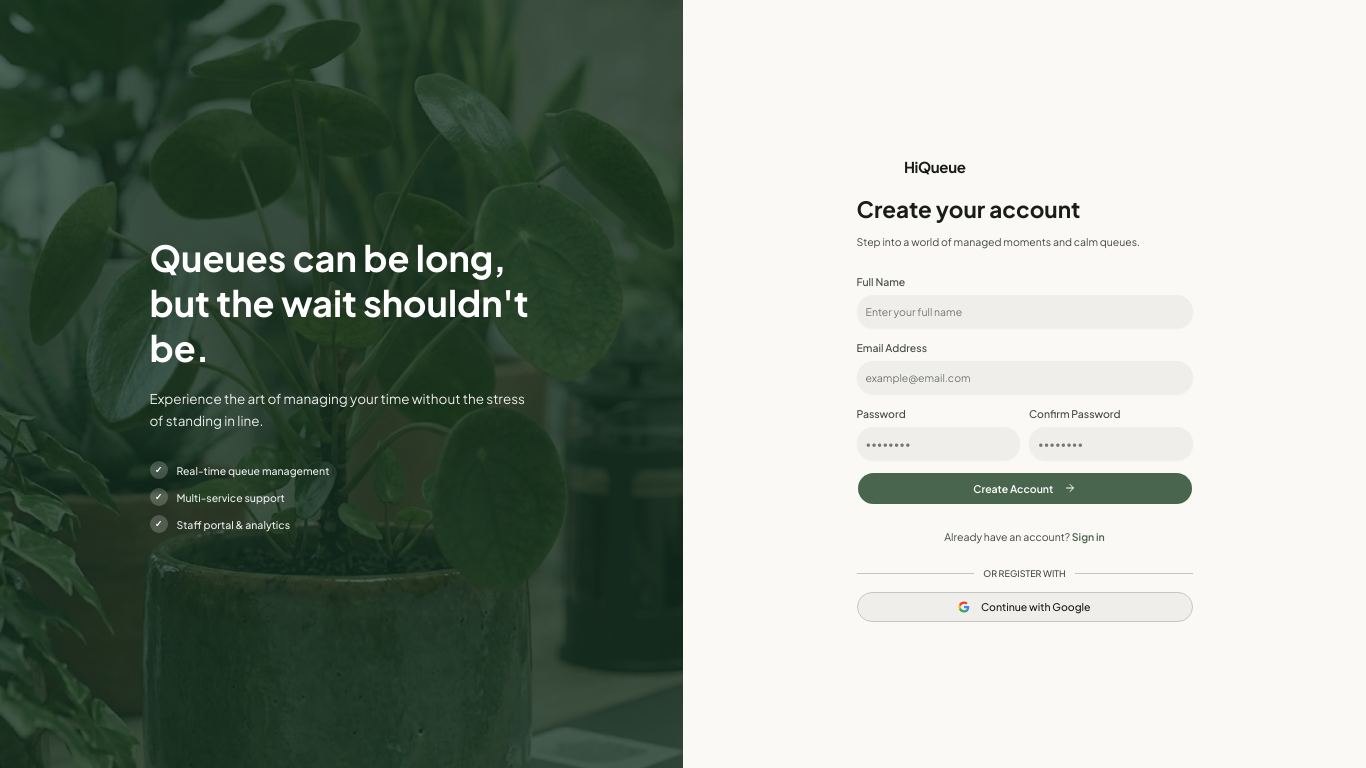
RegisterPage › should stop spinner and show error when registration fails
In the field labelled "Full Name": (1024, 311) [856, 295, 1192, 328], type "Test User"
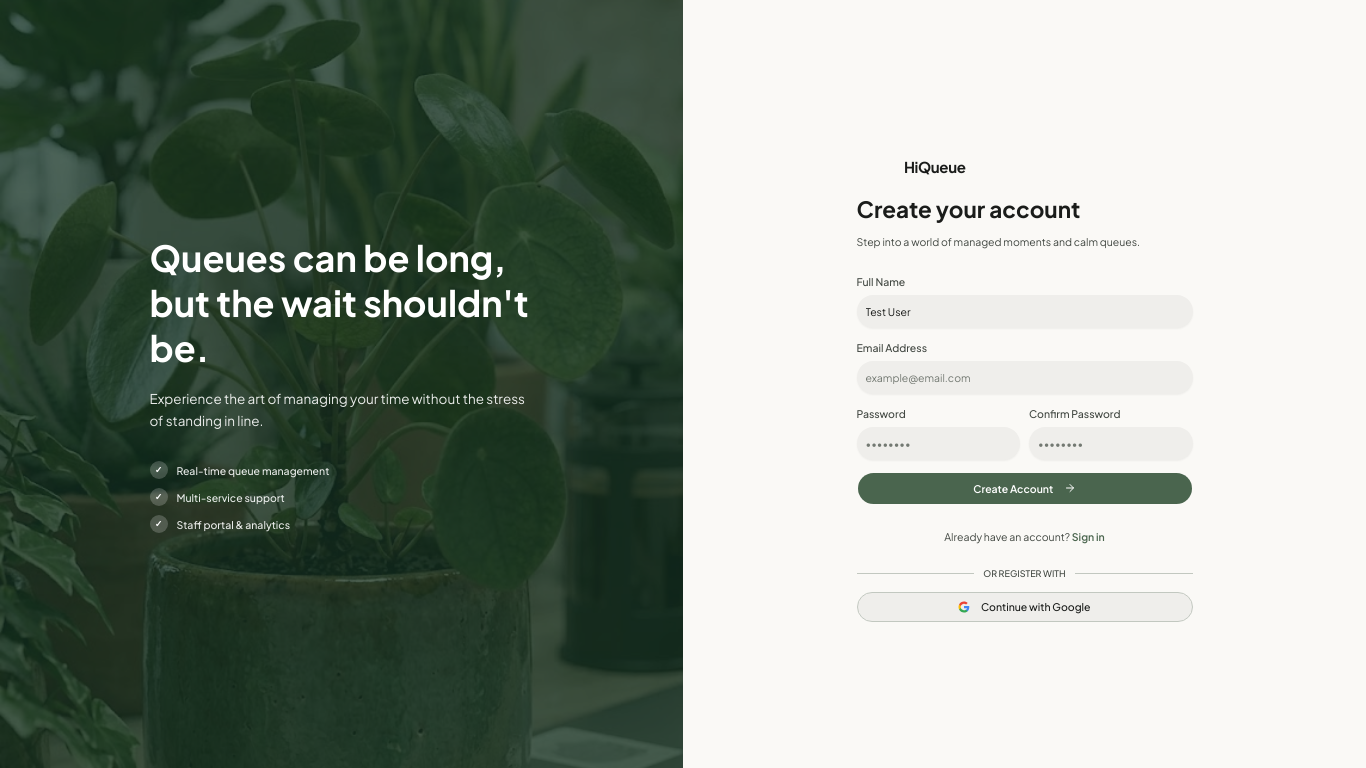
In the field labelled "Email Address": (1024, 377) [856, 361, 1192, 394], type "existing@example.com"
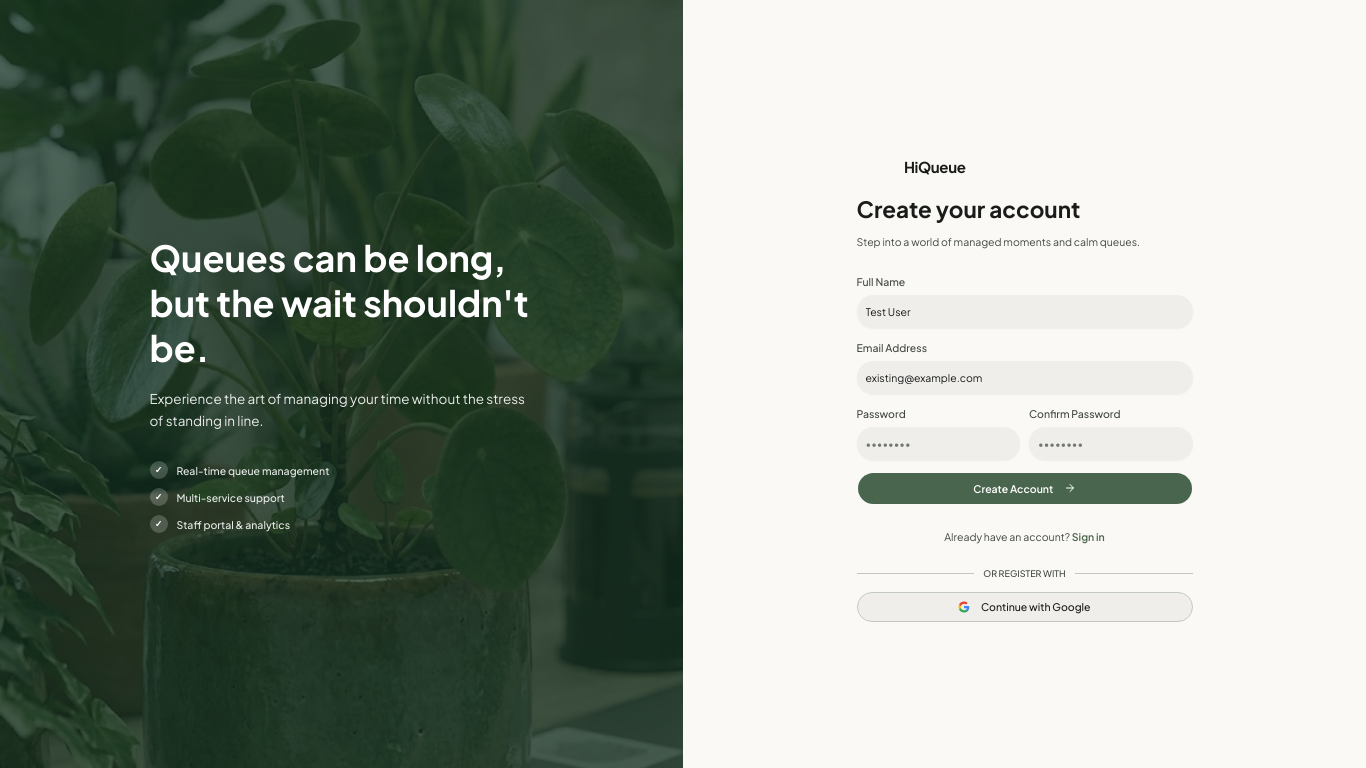
In the password field labelled "Password": (938, 443) [856, 427, 1020, 460], type "password123"
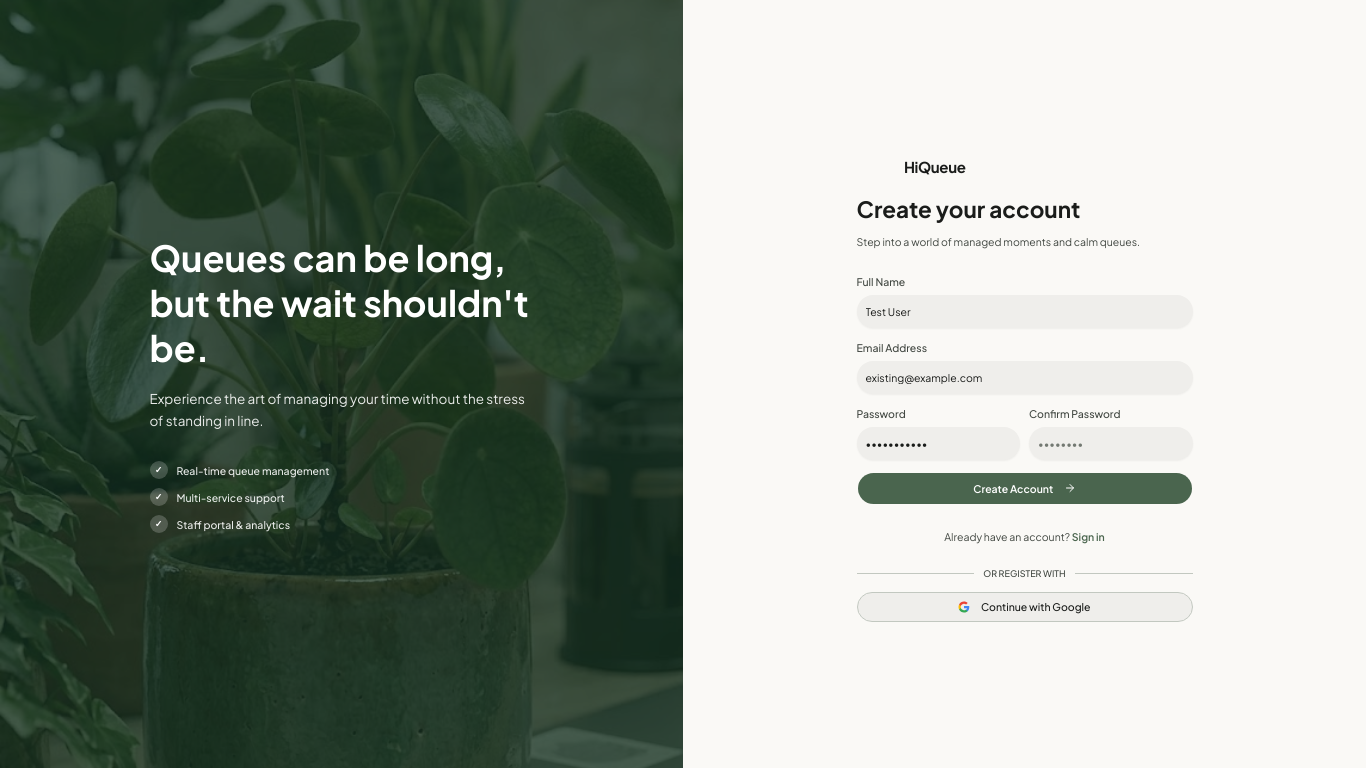
In the password field labelled "Confirm Password": (1111, 443) [1029, 427, 1192, 460], type "password123"
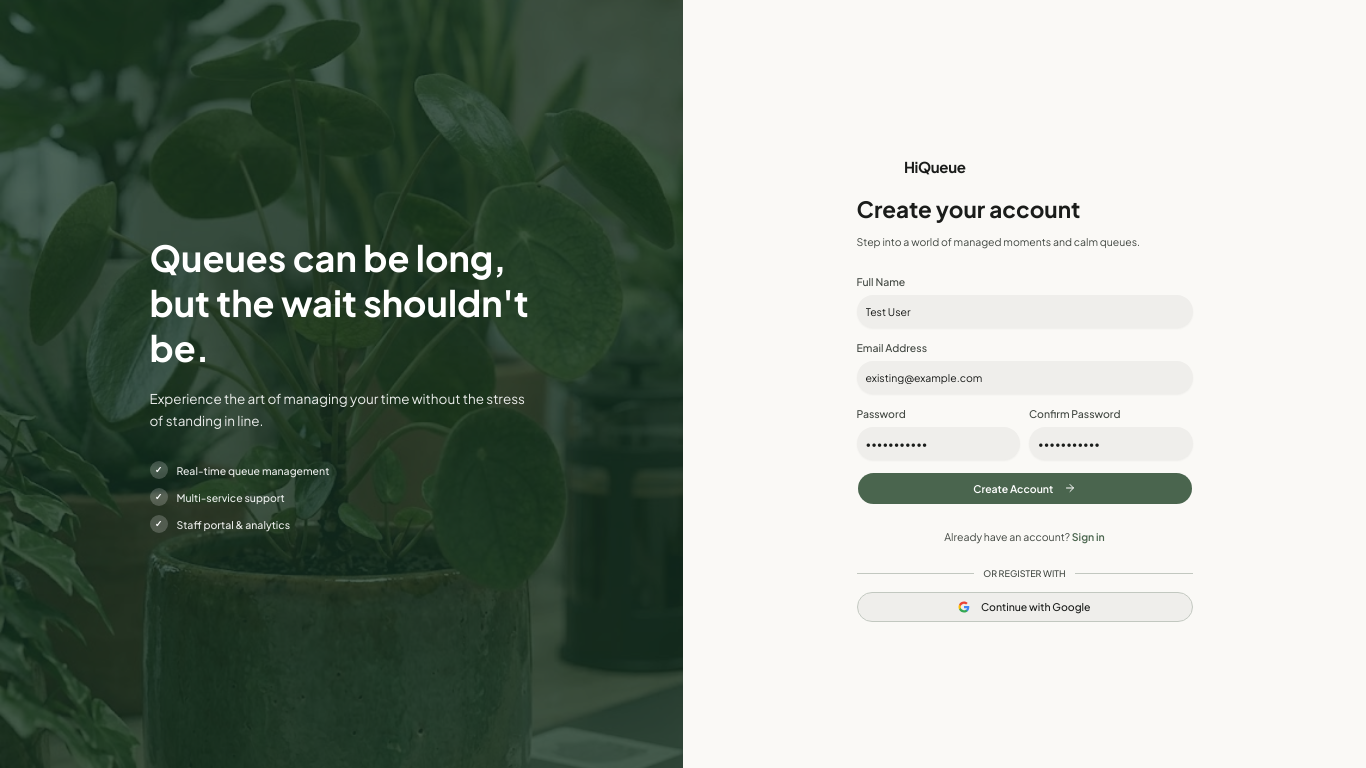
Click the button "Create Account": click(1024, 488) [856, 472, 1192, 505]
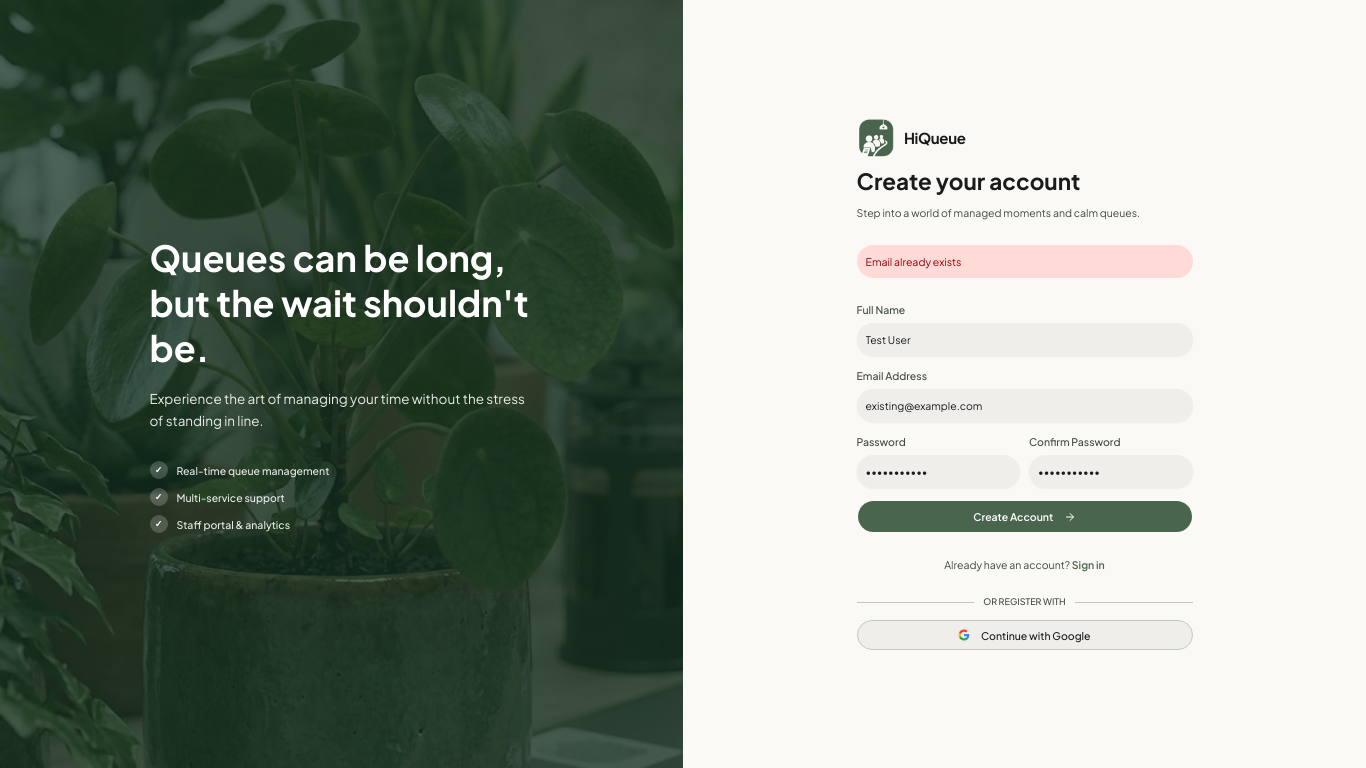
Check: the button "creating account" is enabled, box [856, 500, 1192, 533]
Check: the text "Email already exists" is shown, box [856, 245, 1192, 278]
